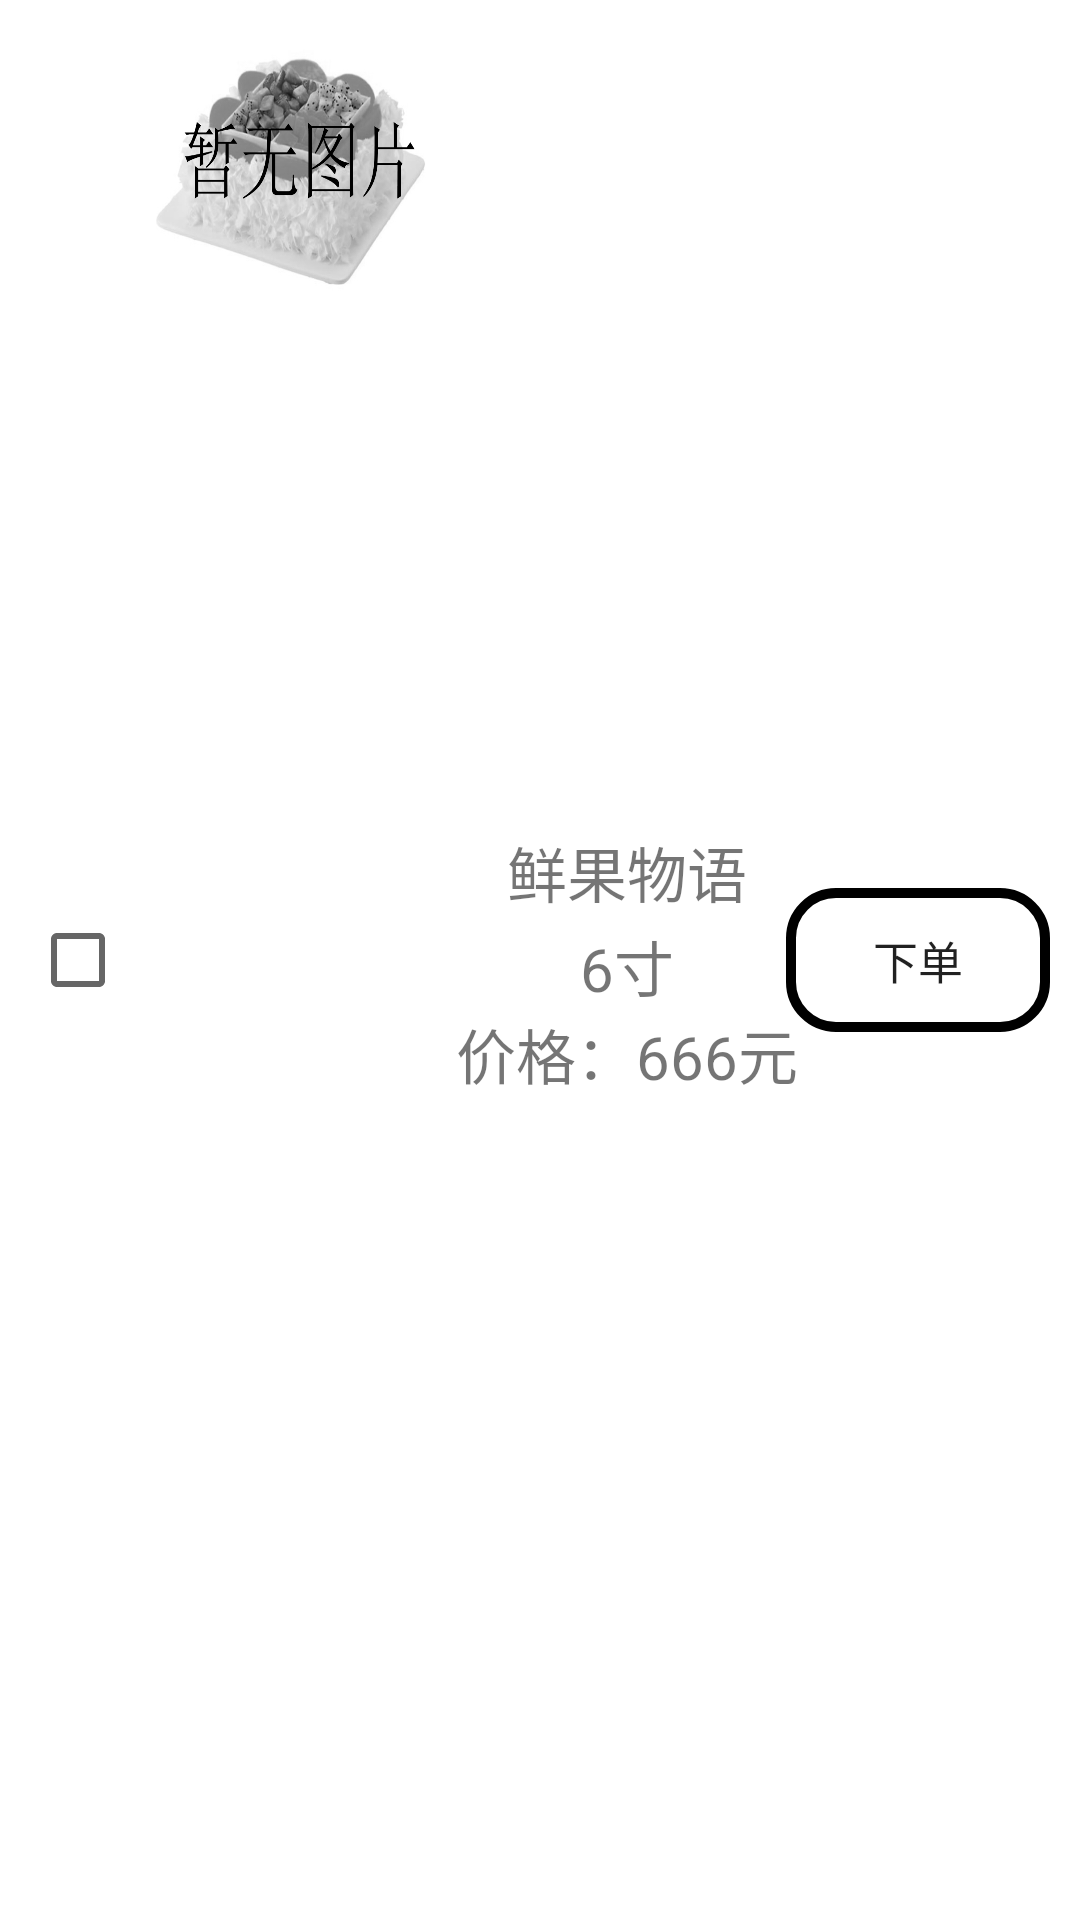

Locate icon controls on the screen. Image size 1080×1920, boxes as [x1=x1, y1=y1, x2=x2, y2=y2].
cake: [x1=158, y1=59, x2=425, y2=285]
